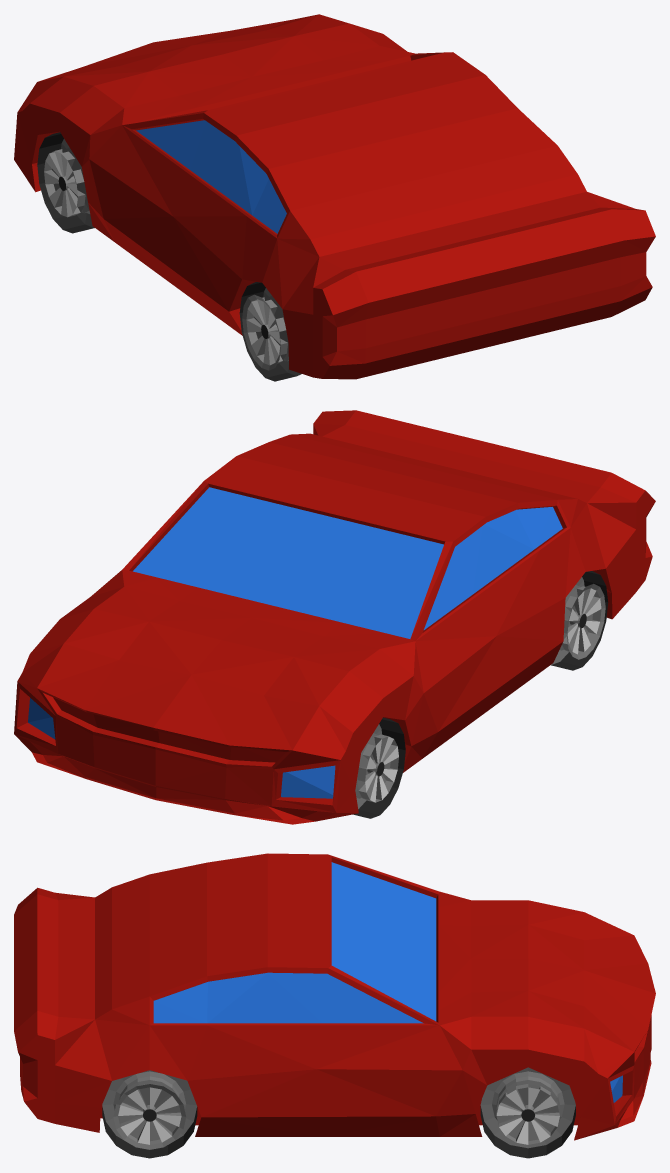
File: carExport-nowy.fbx
The picture shows the model from 3 angles, top to bottom: view 1: azimuth 30°, elevation 25°; view 2: azimuth 150°, elevation 25°; view 3: azimuth 270°, elevation 25°; orthographic projection. The views are drawn at different scales.
Parts seen in each view (by area): view 1: Cube; view 2: Cube; view 3: Cube.
Boxes of the visible parts, x1,y1,x2,y2 form: Cube: (14, 14, 655, 381); Cube: (14, 410, 655, 824); Cube: (14, 853, 655, 1158).
Bounding box in the file's own units: 268 × 144 × 477.
